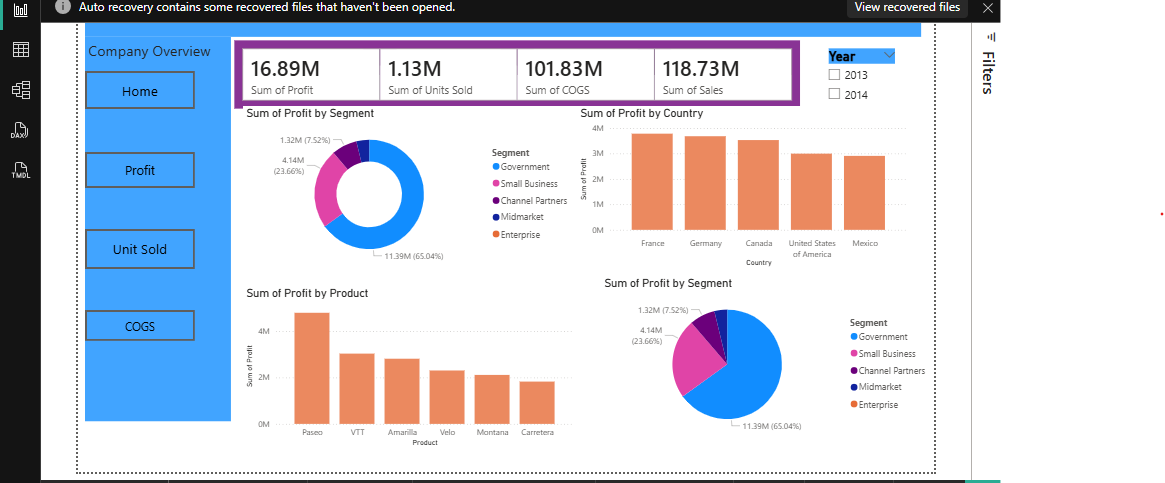

What the dashboard file says about the page in this screenshot:
{"tool":"powerbi","page":{"name":"Dashboard(Home)","canvas":[1280,720],"ordinal":8},"visuals":[{"type":"textbox","box":[10.5,0,1248.8,70.2],"z":0},{"type":"textbox","box":[10.5,70.2,218.1,573.6],"z":1000},{"type":"actionButton","box":[10.5,121,164.3,56.8],"z":2000},{"type":"textbox","box":[1220.4,630.4,13.4,13.4],"z":3000},{"type":"actionButton","box":[10.5,242,164.3,53.8],"z":4000},{"type":"actionButton","box":[10.5,357,164.3,59.8],"z":5000},{"type":"actionButton","box":[10.5,478,164.3,46.3],"z":6000},{"type":"lineChart","fields":{"Category":["Sheet1.Date.Variation.Date Hierarchy.Quarter"],"Y":["Sum(Sheet1.Profit)"]},"box":[10.5,400.3,1018.8,319.7],"z":7000},{"type":"cardVisual","fields":{"Data":["Sum(Sheet1.Profit)","Sum(Sheet1.Units Sold)","Sum(Sheet1.COGS)","Sum(Sheet1. Sales)"]},"box":[228.5,70.2,879.8,225.6],"z":8000},{"type":"slicer","fields":{"Values":["Sheet1.Date.Variation.Date Hierarchy.Year"]},"box":[1108.4,82.2,125.5,200.2],"z":9000},{"type":"actionButton","box":[10.5,22.4,164.3,47.8],"z":10000}]}

Visuals, with their boxes on the page's 1280x720 design canvas (x1, y1, x2, y2). These are canvas units, not pixel positions in the 1165x483 screenshot, which may show the page scaled, cropped or inside an application window:
textbox: 10:0:1259:70
textbox: 10:70:229:644
actionButton: 10:121:175:178
textbox: 1220:630:1234:644
actionButton: 10:242:175:296
actionButton: 10:357:175:417
actionButton: 10:478:175:524
lineChart - Sheet1.Date.Variation.Date Hierarchy.Quarter x Sum(Sheet1.Profit): 10:400:1029:720
cardVisual - Sum(Sheet1.Profit) x Sum(Sheet1.Units Sold): 228:70:1108:296
slicer - Sheet1.Date.Variation.Date Hierarchy.Year: 1108:82:1234:282
actionButton: 10:22:175:70
